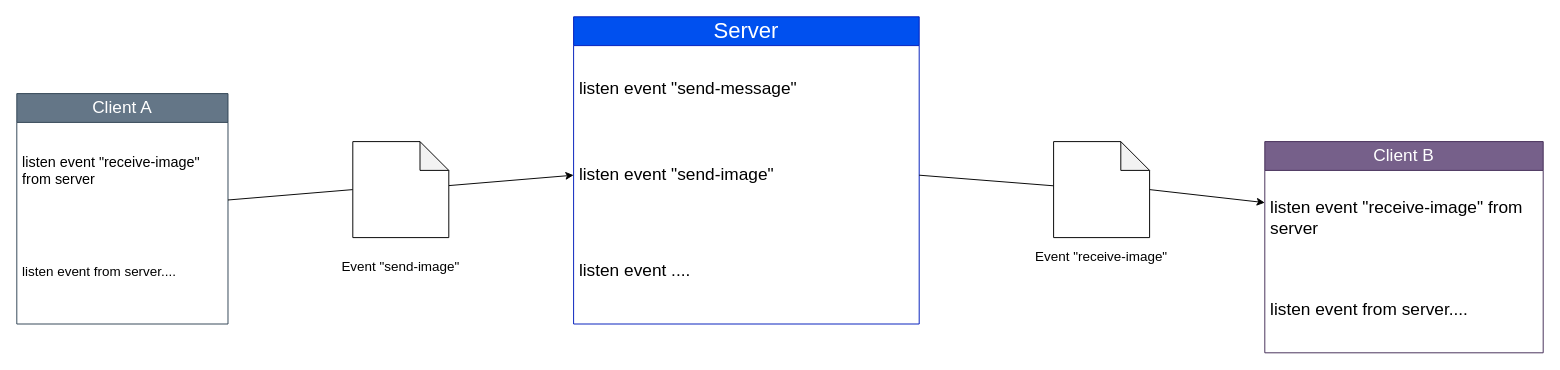
This 1560x370 diagram has some shape labels left out. Each missing label, with the centre of its shape:
"fromUserID byte [] image" goes at point (1101, 189).
"fromUserID toUserID byte [] image" goes at point (400, 189).
